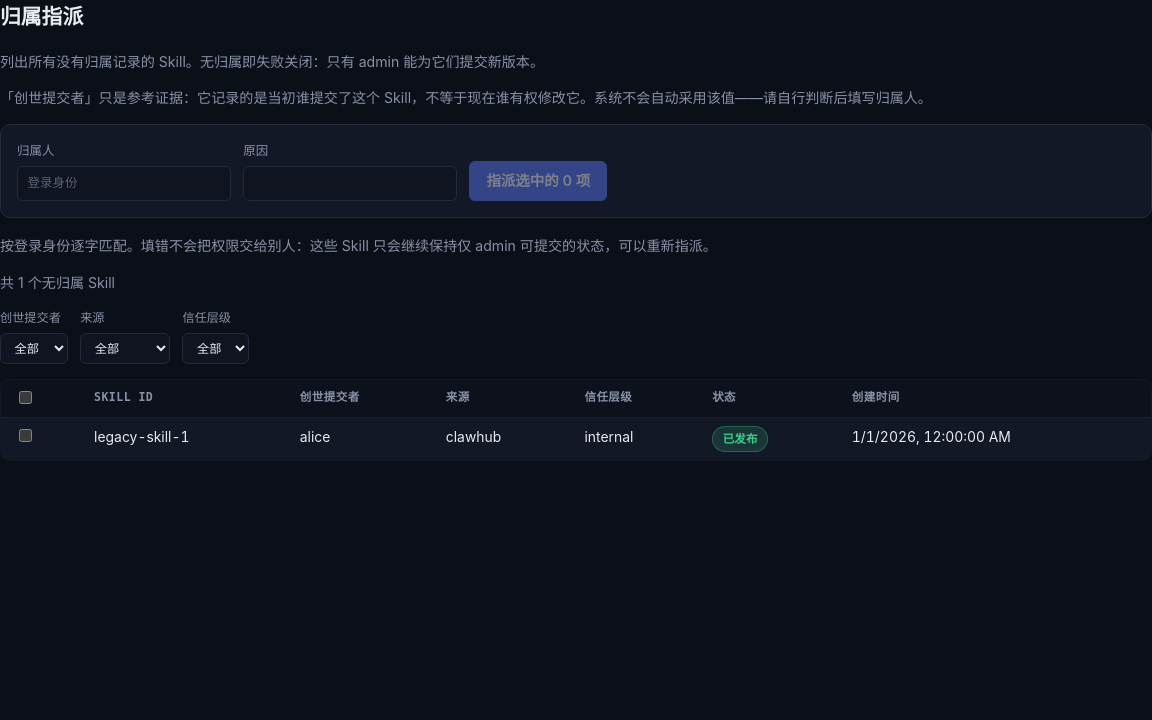
it: AdminOwnershipPage › confirms before assigning, naming the count and the identity
Click the checkbox named "legacy-skill-1" at (25, 436), box top-left (19, 429), bottom-right (32, 442)
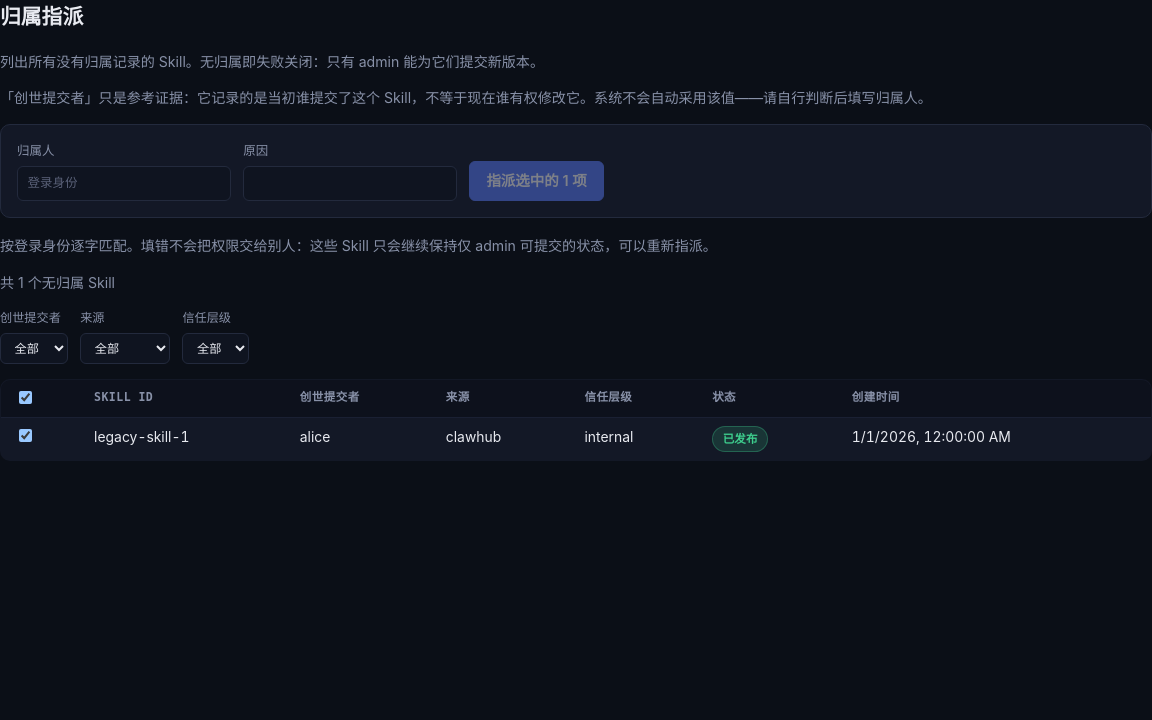
Type "alice" into the field with placeholder "登录身份" at (124, 183), box top-left (17, 166), bottom-right (231, 200)
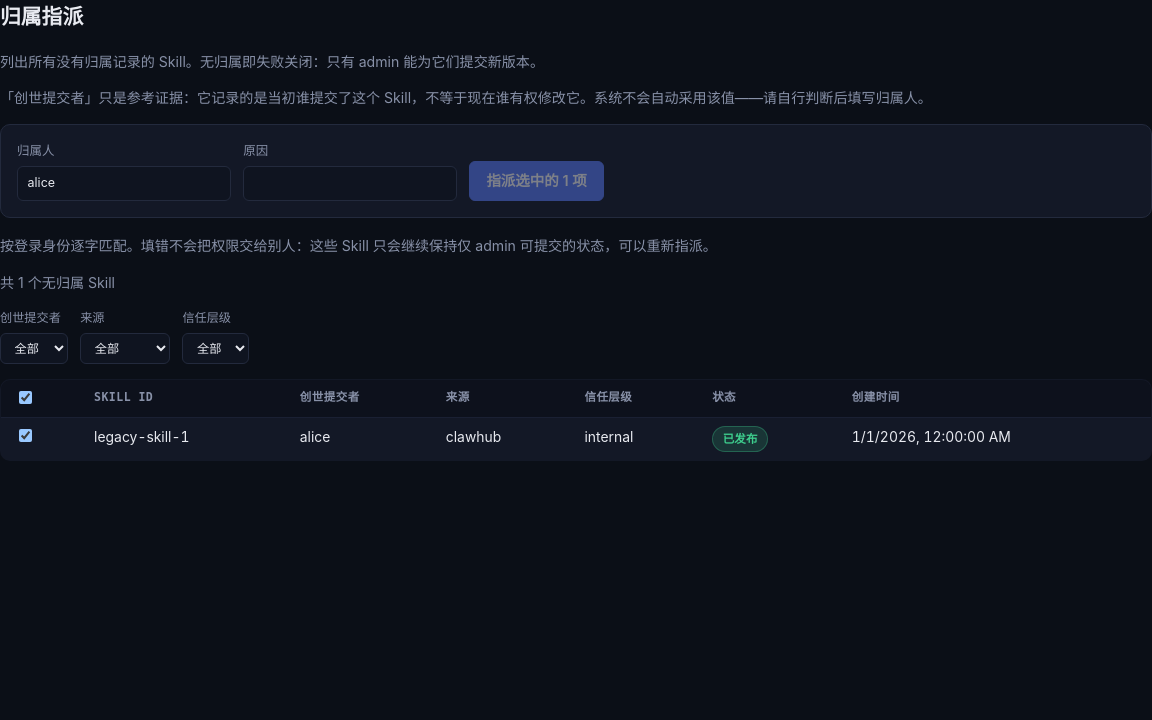
Type "r" into the field labelled "原因" at (350, 183), box top-left (243, 166), bottom-right (457, 200)
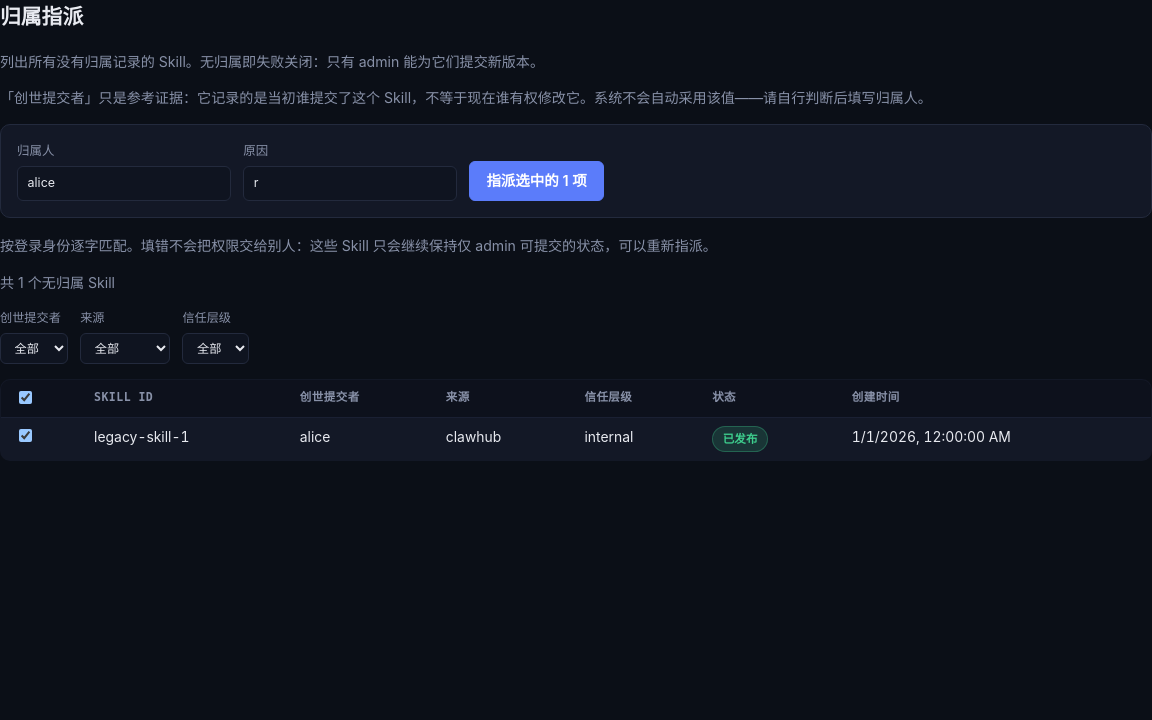
Click the button "指派选中的 1 项" at (537, 181), box top-left (469, 161), bottom-right (604, 201)
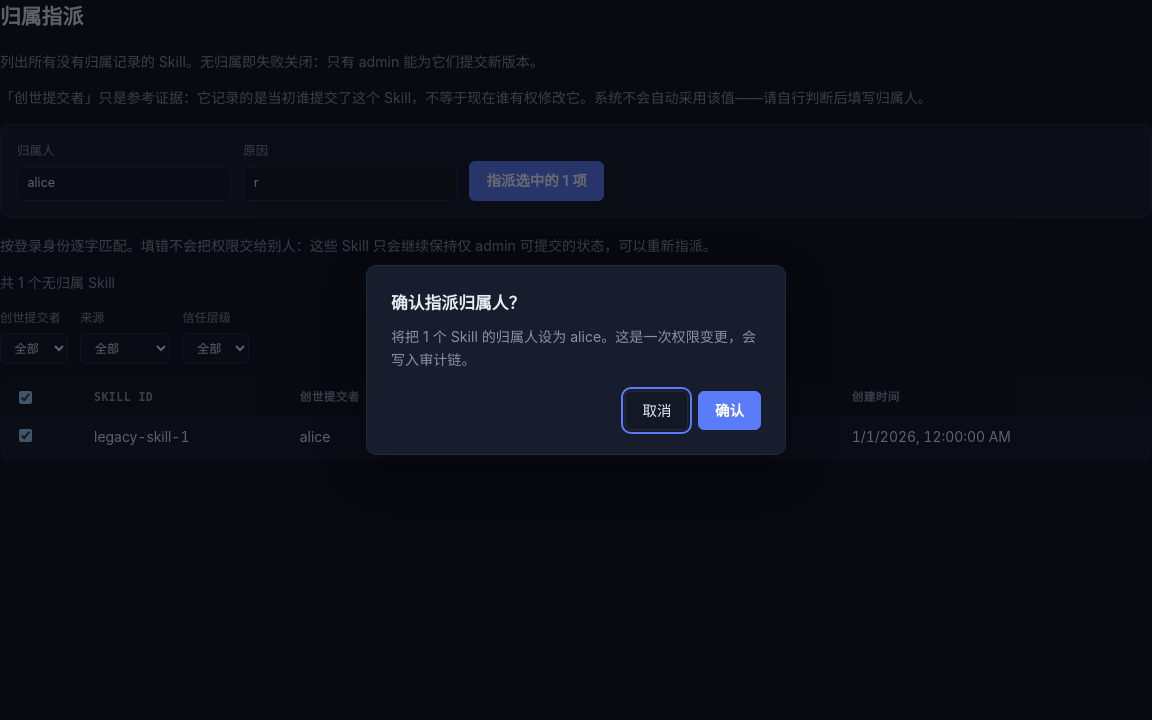
Expected: the text "将把 1 个 Skill 的归属人设为 alice。这是一次权限变更，会写入审计链。" is shown, top-left (391, 326), bottom-right (761, 371)
